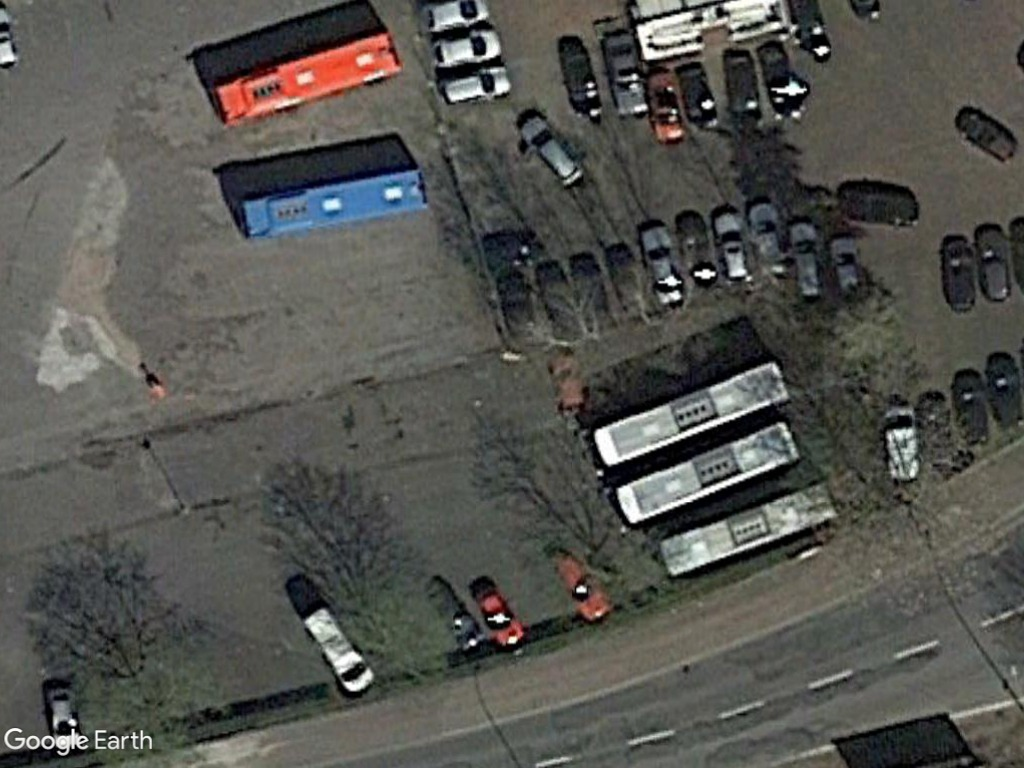bus: (582, 357, 795, 474), (610, 418, 798, 531), (654, 476, 837, 581), (209, 31, 400, 131), (232, 164, 431, 243)
car: (638, 221, 688, 311), (426, 23, 506, 74), (710, 205, 755, 290), (786, 218, 829, 306), (437, 63, 512, 108)
van: (297, 605, 375, 698), (518, 112, 588, 188), (882, 401, 921, 484)
